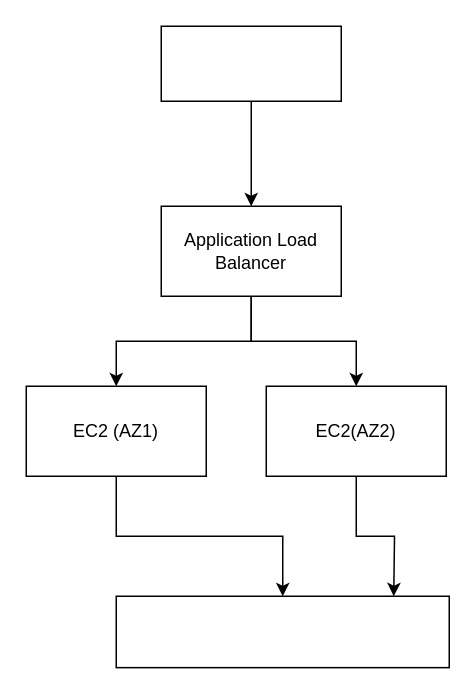
Image size: 476x695. Some labels were removed from this diagram. Here are the shapes that lost their labels. From the top down, the centre of each, then its label:
At point (250, 63): "User".
At point (282, 631): "RDS (Multi AZ)".
